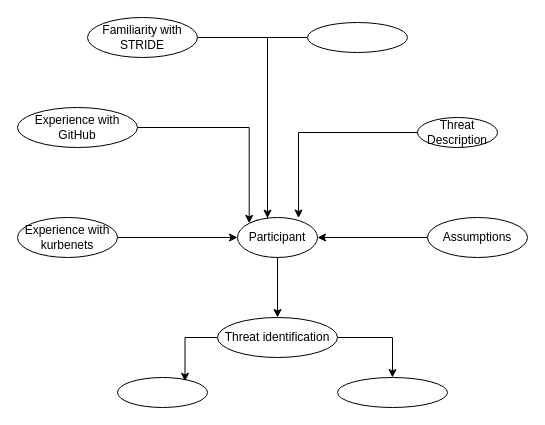
Some shapes in this 545 by 425 pixel diagram are drawn without their labels. The shapes that lost their labels are listed below. From the top down, each one's box as (x1, y1, x2, y2) in pixels, then its label:
(306, 22, 408, 52): Training
(116, 376, 208, 408): Precision
(336, 376, 448, 408): Confidence level
